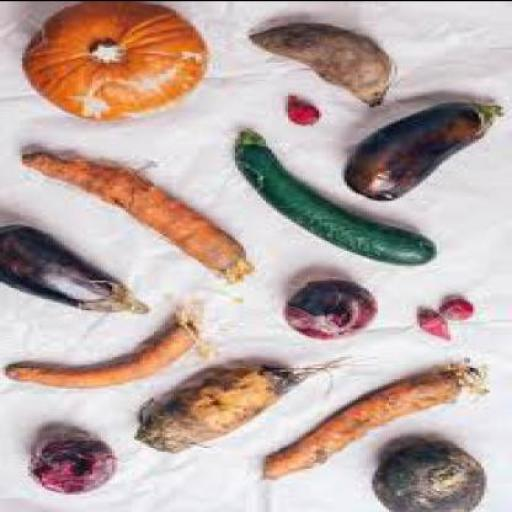biodegradable: (22, 152, 257, 285), (266, 358, 490, 480), (240, 130, 439, 266), (23, 2, 212, 121), (143, 365, 332, 456), (344, 103, 506, 201), (246, 22, 398, 108), (11, 322, 204, 389), (377, 440, 491, 510), (31, 430, 120, 496), (288, 279, 380, 341), (288, 96, 325, 128), (422, 309, 454, 341), (442, 298, 479, 324)
